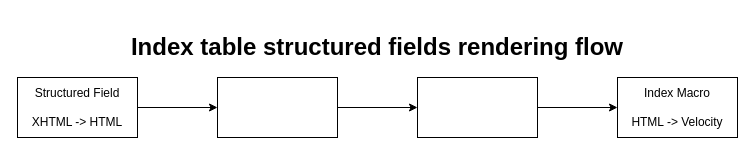
Some shapes in this 755 by 164 pixel diagram are drawn without their labels. Each missing label, with the centre of its shape:
Structure Field Confluence Storage Format -> HTML: the point at 277,107
Structure Field HTML -> Velocity: the point at 477,107
